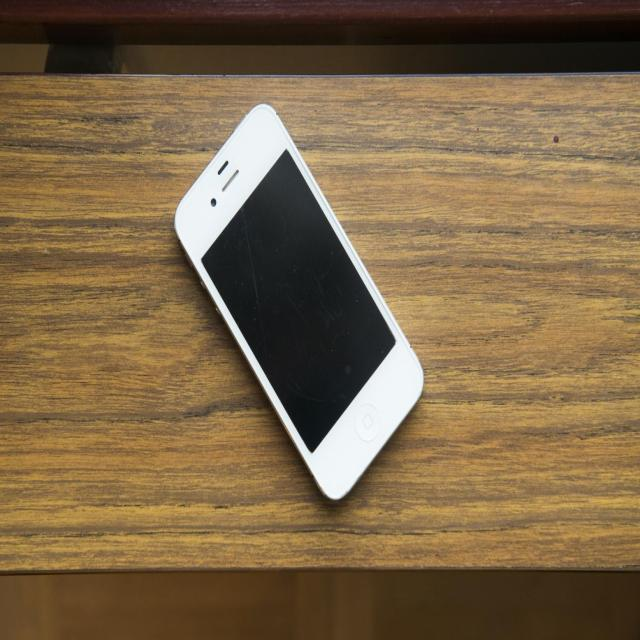Phone: (168, 90, 430, 520)
